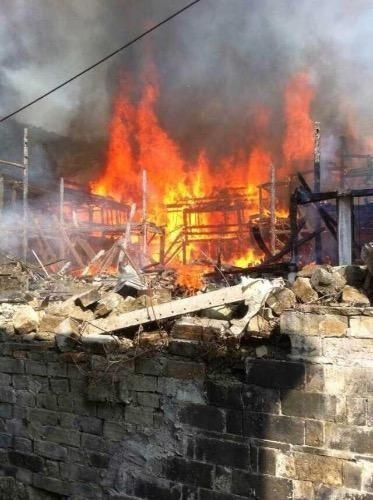fire: (83, 80, 313, 286)
